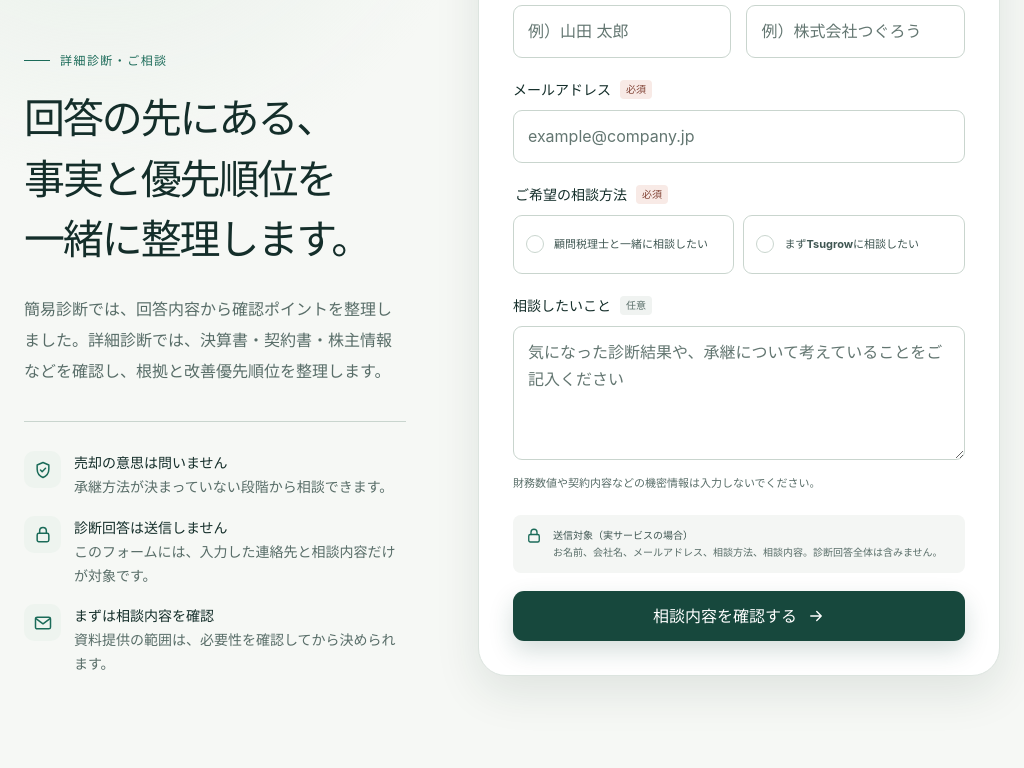
Test case: 診断UIの受け入れ条件 › 相談フォームはメールアドレスと相談方法の両方を必須にする
(page scrolled)
Click the button "相談内容を確認する": [739, 616] box [513, 591, 965, 641]
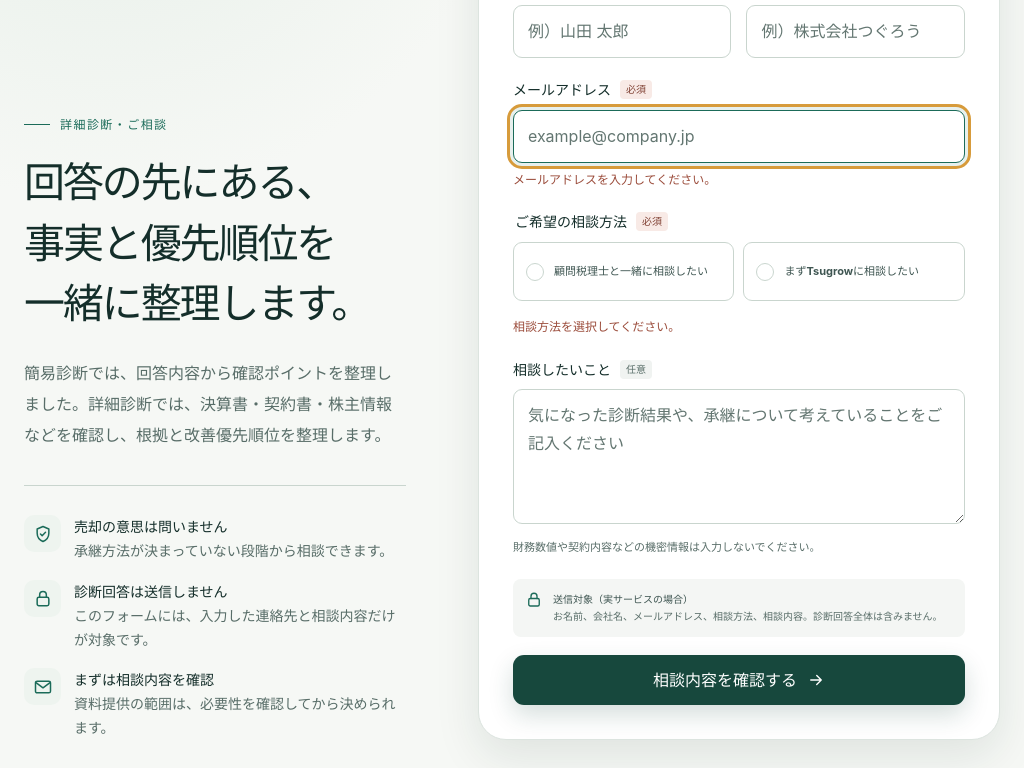
Expected: the text "メールアドレスを入力してください。" is shown, [513, 172, 716, 187]
Expected: the text "相談方法を選択してください。" is shown, [513, 319, 680, 334]
